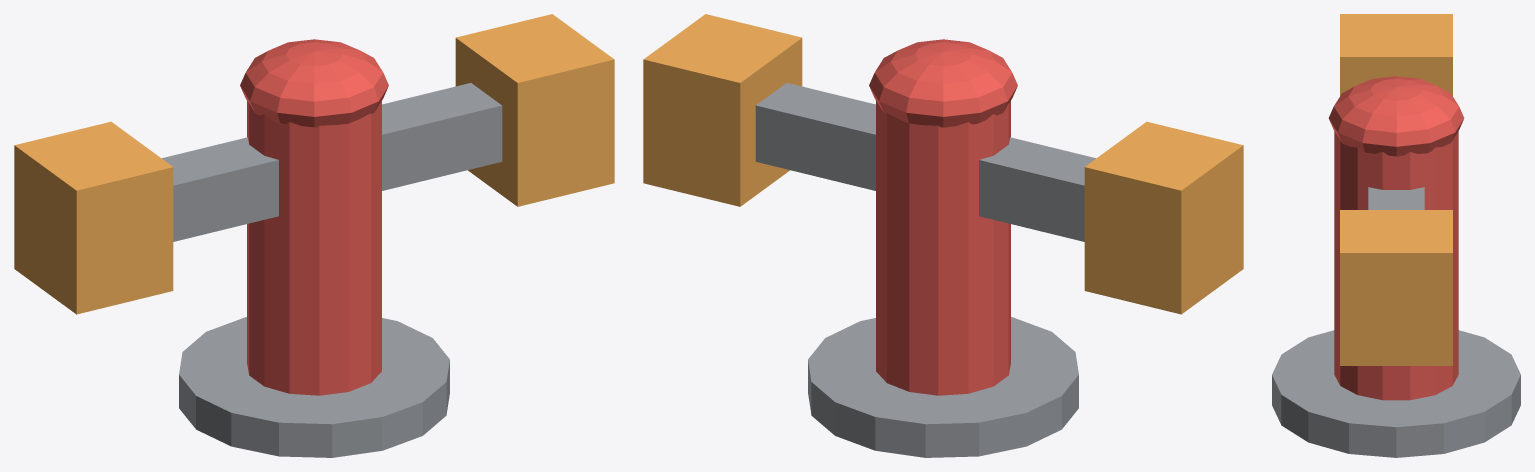
The model's file is SM_Trap_Spinner.fbx.
3 renders of one model, left to right at view 1: azimuth 30°, elevation 25°; view 2: azimuth 150°, elevation 25°; view 3: azimuth 270°, elevation 25°, orthographic. The views are drawn at different scales.
Parts seen in each view (by area): view 1: SM_Trap_Spinner; view 2: SM_Trap_Spinner; view 3: SM_Trap_Spinner.
Part boxes in pixels (x1=…): SM_Trap_Spinner: x1=14, y1=14, x2=614, y2=457; SM_Trap_Spinner: x1=643, y1=14, x2=1243, y2=457; SM_Trap_Spinner: x1=1272, y1=14, x2=1520, y2=457.
Bounding box in the file's own units: 1 × 0.62 × 0.44.
